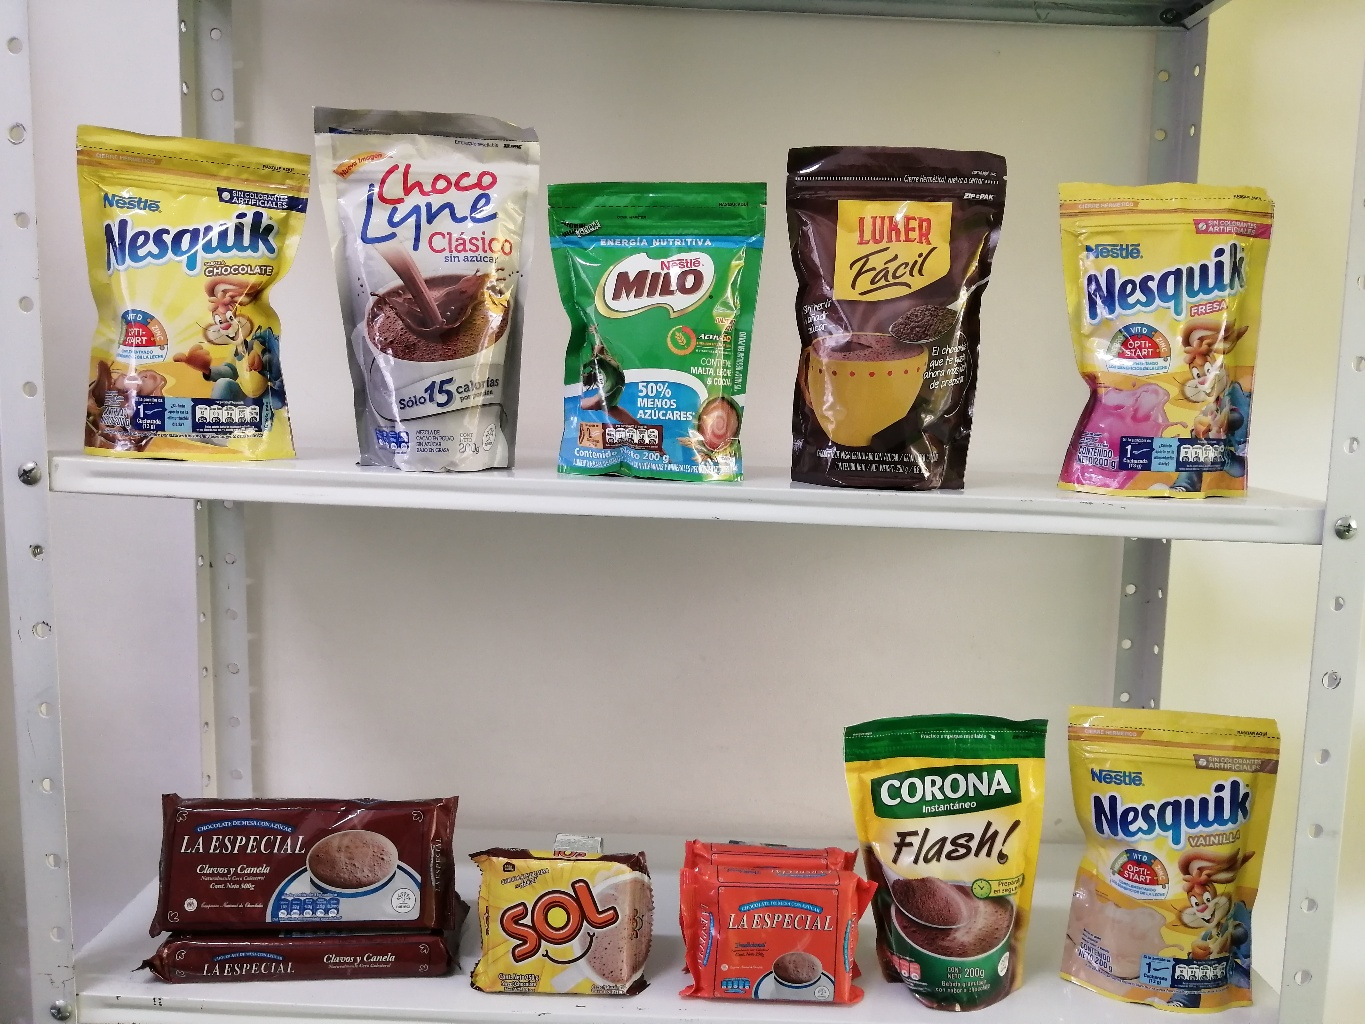COL0170205DYP20000: (539, 174, 755, 479)
COL0170303DYP20000: (69, 115, 314, 464)
COL0170305DYP20000: (1054, 170, 1282, 504)
COL0170306DYP20000: (1065, 698, 1272, 1014)
